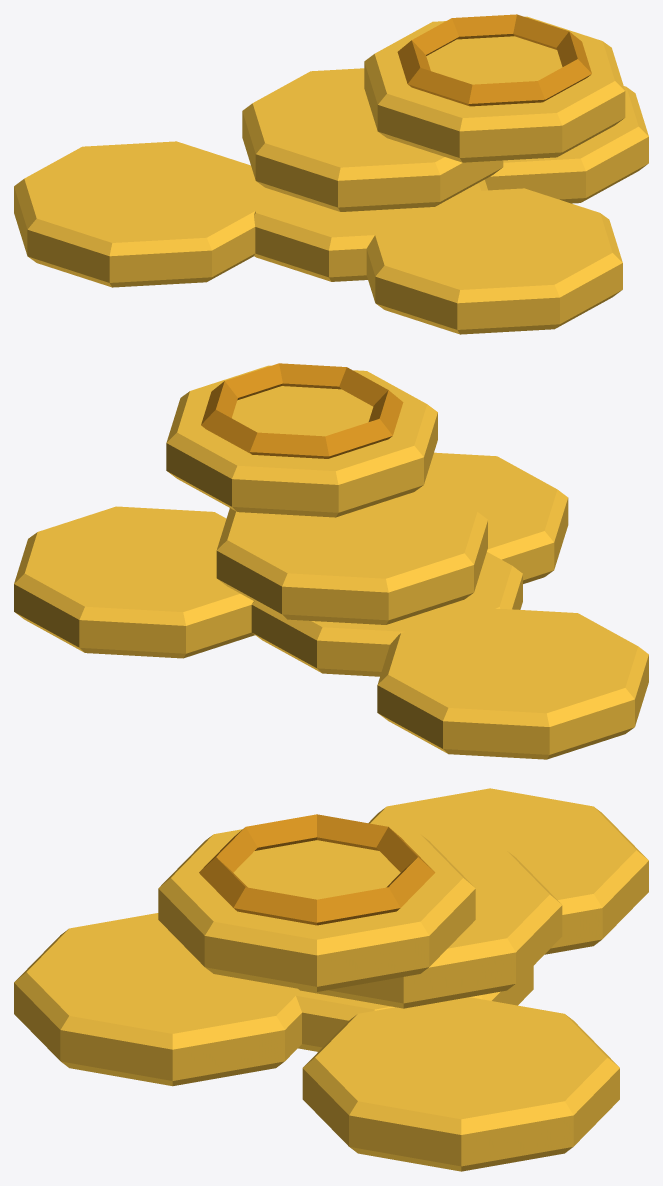
File: GeltCoins.fbx
3 renders of one model, top to bottom at view 1: azimuth 30°, elevation 25°; view 2: azimuth 150°, elevation 25°; view 3: azimuth 270°, elevation 25°, orthographic. The views are drawn at different scales.
Parts seen in each view (by area): view 1: GeltCoins; view 2: GeltCoins; view 3: GeltCoins.
Part boxes in pixels (box(x1,y1,x2,y2)): GeltCoins: box(14, 14, 648, 334); GeltCoins: box(14, 363, 648, 759); GeltCoins: box(14, 788, 648, 1171).
Bounding box in the file's own units: 2.8 × 0.78 × 2.2.
Materials: 1 (1 with a texture image).
